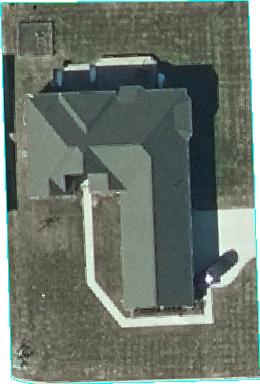house: (23, 86, 197, 311)
